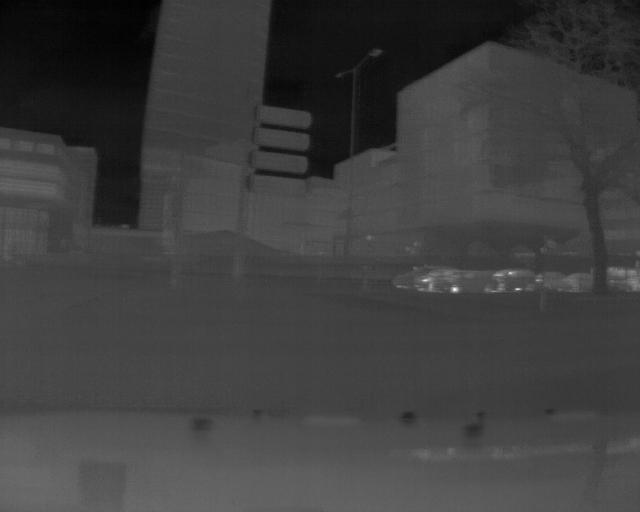car: (441, 269, 500, 297)
